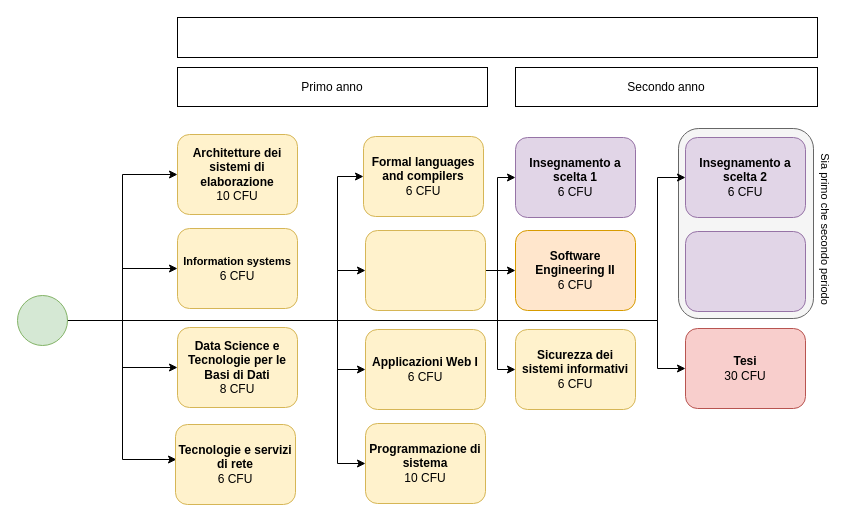
Some shapes in this 858 by 522 pixel diagram are drawn without their labels. The shapes that lost their labels are listed below. From the top down, each one's centre as x and y in pixels, then its label:
At [497,37]: "SOFTWARE".
At [425,270]: "Ingegneria del software 8 CFU".
At [745,271]: "Crediti Liberi 6 CFU".
